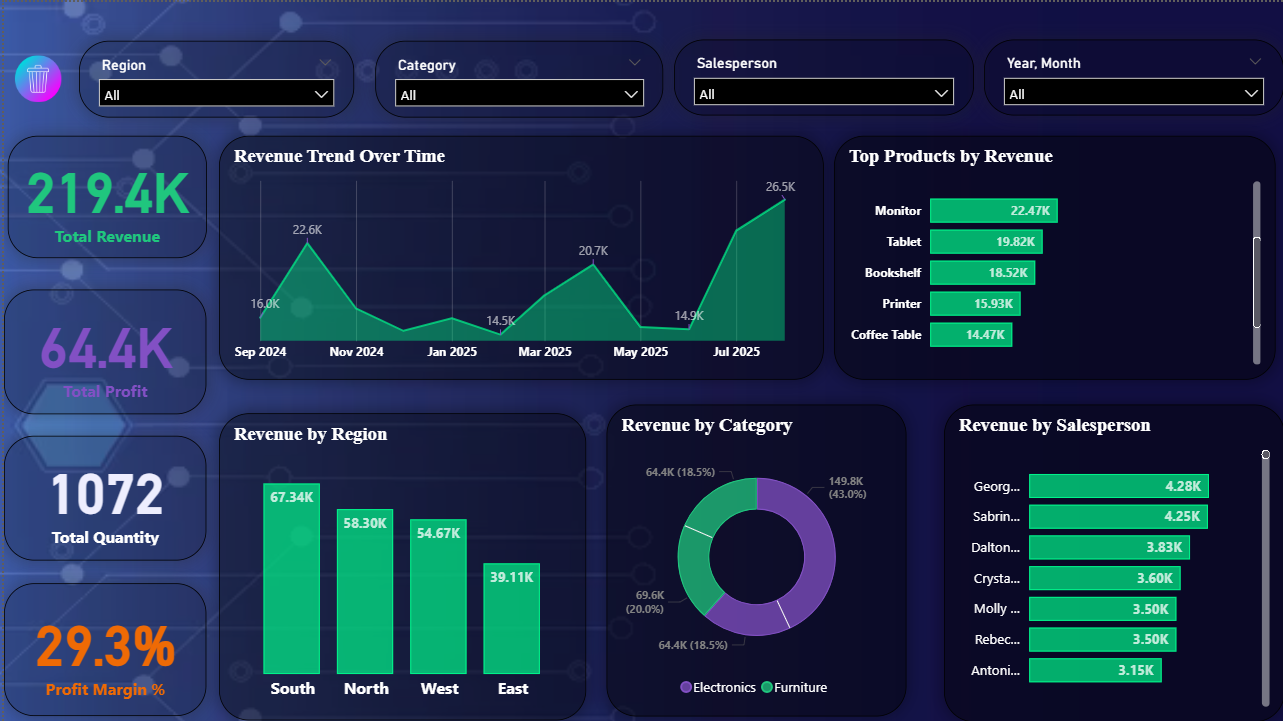

What the dashboard file says about the page in this screenshot:
{"tool":"powerbi","page":{"name":"Page 1","canvas":[1280,720],"ordinal":0},"visuals":[{"type":"clusteredColumnChart","title":"Revenue by Region","fields":{"Category":["Sheet1.Region"],"Y":["Sheet1.Revenue"]},"box":[215.1,411.6,367.4,307],"z":0},{"type":"card","fields":{"Values":["Sheet1.Total Revenue"]},"box":[3.5,133.7,198.8,122.1],"z":1000},{"type":"card","fields":{"Values":["Sheet1.Total Profit"]},"box":[0,287.2,202.3,124.4],"z":2000},{"type":"card","fields":{"Values":["Sheet1.Total Quantity"]},"box":[0,433.7,202.3,124.4],"z":3000},{"type":"lineChart","title":"Revenue Trend Over Time","fields":{"Category":["Sheet1.OrderDate.Variation.Date Hierarchy.Year","Sheet1.OrderDate.Variation.Date Hierarchy.Month"],"Y":["Sheet1.Revenue"]},"box":[215.1,133.7,604.7,244.2],"z":4000},{"type":"card","fields":{"Values":["Sheet1.Profit Margin %"]},"box":[0,581.4,202.3,132.6],"z":5000},{"type":"barChart","title":"Top Products by Revenue","fields":{"Category":["Sheet1.Product"],"Y":["Sheet1.Revenue"]},"box":[830.2,133.7,441.9,244.2],"z":6000},{"type":"donutChart","title":"Revenue by Category","fields":{"Y":["Sheet1.Revenue","Sheet1.Total Profit"],"Category":["Sheet1.Category"]},"box":[602.3,402.3,300,311.6],"z":7000},{"type":"slicer","fields":{"Values":["Sheet1.Region"]},"box":[75,38.3,275,76.7],"z":8000},{"type":"slicer","fields":{"Values":["Sheet1.OrderDate.Variation.Date Hierarchy.Year","Sheet1.OrderDate.Variation.Date Hierarchy.Month"]},"box":[980,37.5,300,76.2],"z":9000},{"type":"slicer","fields":{"Values":["Sheet1.Salesperson"]},"box":[670,37.5,300,76.2],"z":10000},{"type":"slicer","fields":{"Values":["Sheet1.Category"]},"box":[371.7,38.3,288.3,76.7],"z":11000},{"type":"barChart","title":"Revenue by Salesperson","fields":{"Category":["Sheet1.Salesperson"],"Y":["Sheet1.Revenue"]},"box":[939.5,402.3,340.7,317.4],"z":12000},{"type":"image","box":[3.3,48.3,60.8,55.8],"z":13000}]}

Visuals, with their boxes in screenshot pixels (x1, y1, x2, y2), scaled from the page's 1280x720 canvas onto the 1283x721 screenshot:
"Revenue by Region" clusteredColumnChart: 216:412:584:720
card - Sheet1.Total Revenue: 4:134:203:256
card - Sheet1.Total Profit: 0:288:203:412
card - Sheet1.Total Quantity: 0:434:203:559
"Revenue Trend Over Time" lineChart: 216:134:822:378
card - Sheet1.Profit Margin %: 0:582:203:715
"Top Products by Revenue" barChart: 832:134:1275:378
"Revenue by Category" donutChart: 604:403:904:715
slicer - Sheet1.Region: 75:38:351:115
slicer - Sheet1.OrderDate.Variation.Date Hierarchy.Year x Sheet1.OrderDate.Variation.Date Hierarchy.Month: 982:38:1282:114
slicer - Sheet1.Salesperson: 672:38:972:114
slicer - Sheet1.Category: 373:38:662:115
"Revenue by Salesperson" barChart: 942:403:1282:720
image: 3:48:64:104
